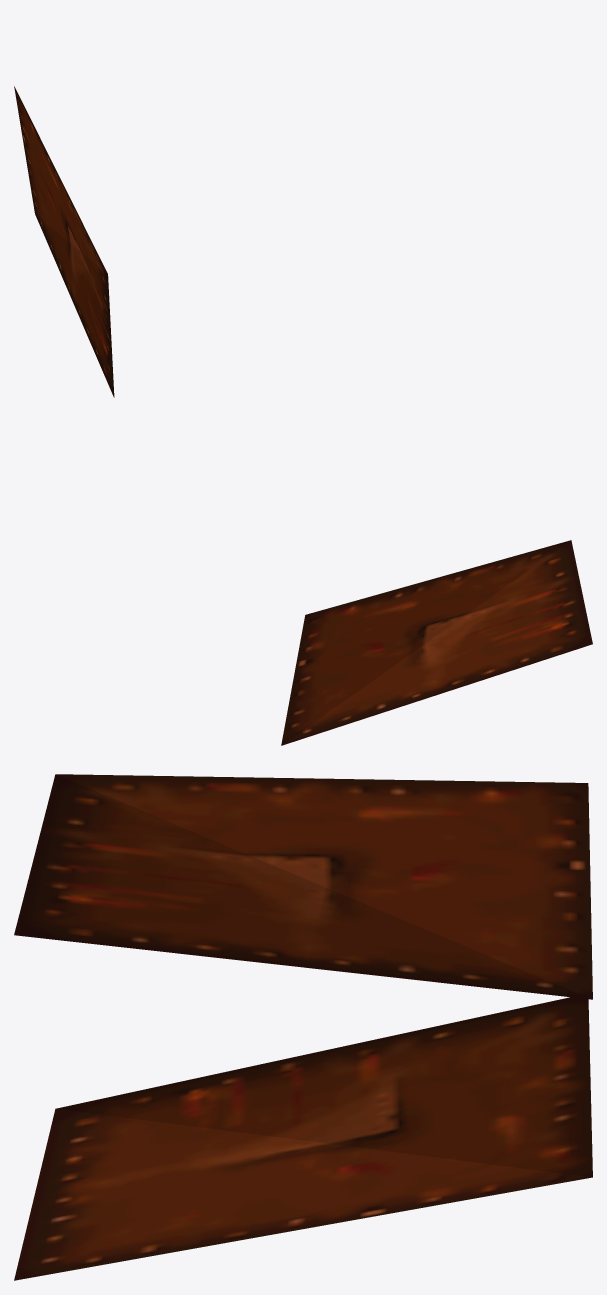
Rendered from Schiff_Bug5_1251.glb.
3 views of the same model, one above another, from view 1: azimuth 30°, elevation 25°; view 2: azimuth 150°, elevation 25°; view 3: azimuth 270°, elevation 25° (orthographic). The views are drawn at different scales.
Parts seen in each view (by area): view 1: pPlaneShape12; view 2: pPlaneShape12; view 3: pPlaneShape12, pPlaneShape33.
Boxes of the visible parts, x1=… form: pPlaneShape12: x1=14, y1=86, x2=114, y2=397; pPlaneShape12: x1=281, y1=540, x2=592, y2=745; pPlaneShape12: x1=14, y1=774, x2=592, y2=999; pPlaneShape33: x1=14, y1=993, x2=592, y2=1280.
Size of the model in its own units: 2.06 by 0.611 by 1.46.
2 materials, 2 textured.
